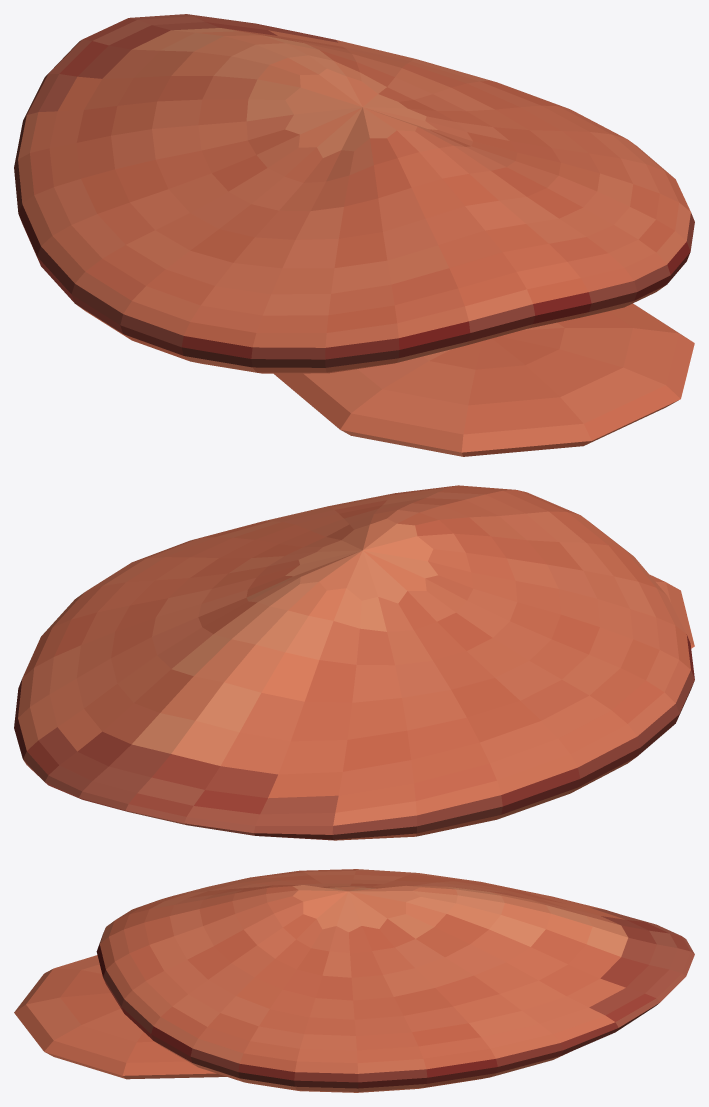
File: Dragon_Scale.glb
3 renders of one model, top to bottom at view 1: azimuth 30°, elevation 25°; view 2: azimuth 150°, elevation 25°; view 3: azimuth 270°, elevation 25°, orthographic. The views are drawn at different scales.
Parts seen in each view (by area): view 1: DragonScale; view 2: DragonScale; view 3: DragonScale.
Part boxes in pixels (bbox=[...]): DragonScale: bbox=[14, 14, 694, 456]; DragonScale: bbox=[14, 485, 694, 840]; DragonScale: bbox=[14, 869, 694, 1092].
Bounding box in the file's own units: 0.5494 × 0.1817 × 0.7795.
